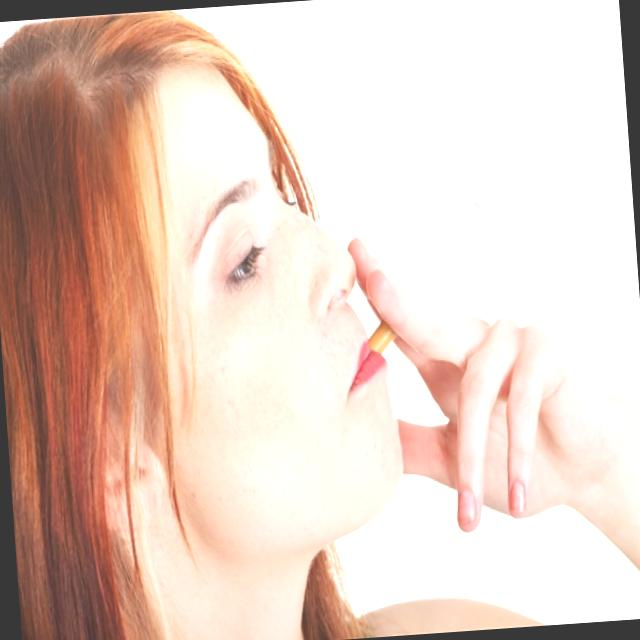cigarette: (396, 192, 492, 294)
